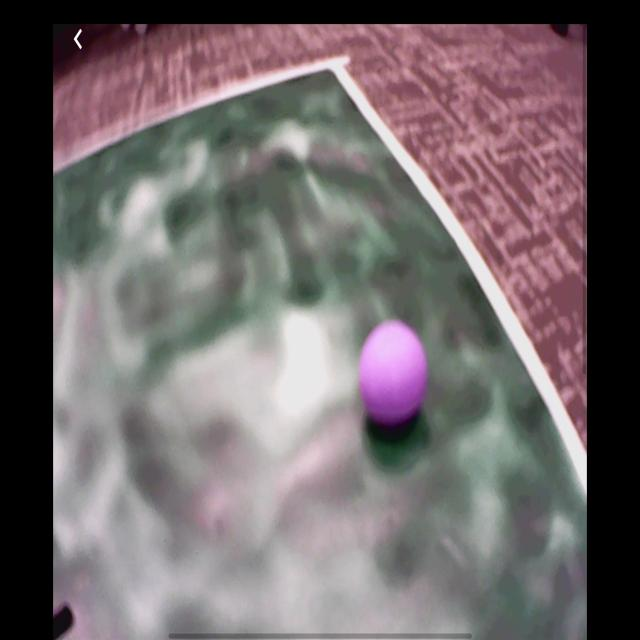ball: (361, 327, 426, 429)
